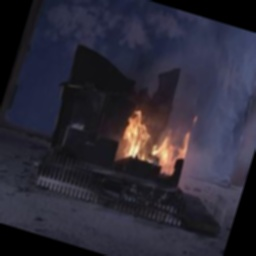fire: (102, 85, 211, 189)
